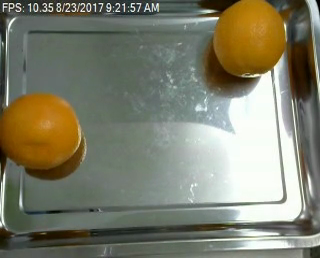Orange: (1, 91, 81, 170), (212, 1, 289, 77)
